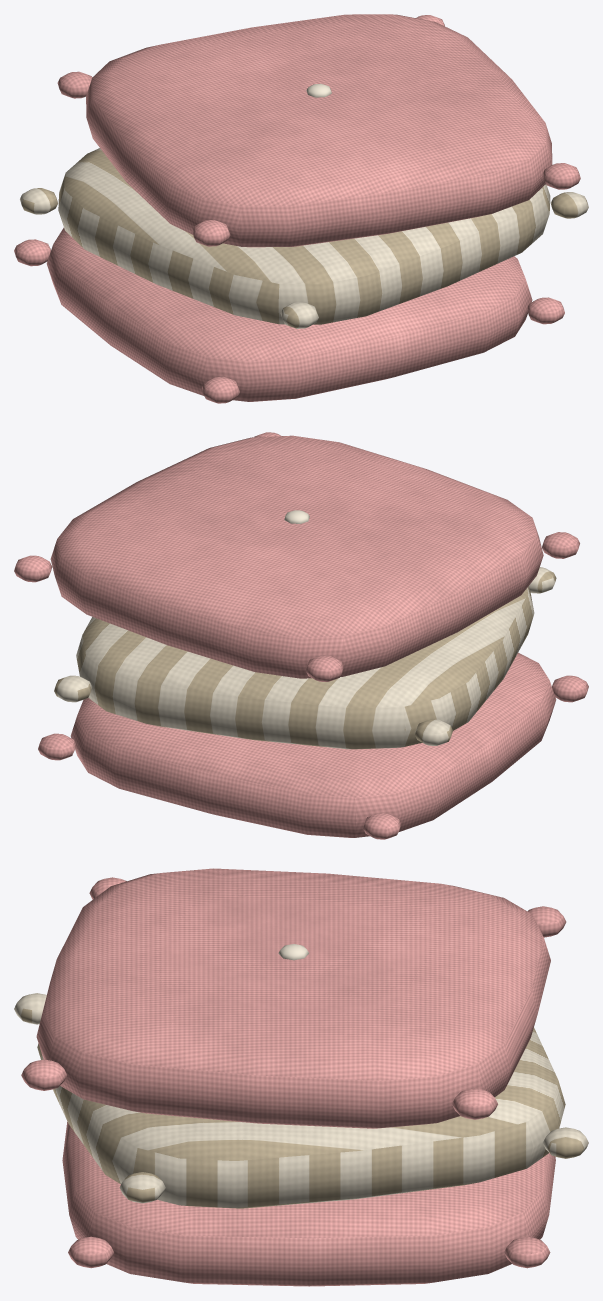
File: cushion_pile.glb
The picture shows the model from 3 angles, top to bottom: view 1: azimuth 30°, elevation 25°; view 2: azimuth 150°, elevation 25°; view 3: azimuth 270°, elevation 25°; orthographic projection. The views are drawn at different scales.
Parts seen in each view (by area): view 1: model; view 2: model; view 3: model.
Part boxes in pixels (x1,y1,x2,y2): model: (14,14,588,403); model: (14,432,588,839); model: (14,868,588,1286).
Size of the model in its own units: 0.7465 by 0.389 by 0.7457.
3 materials, 3 textured.
